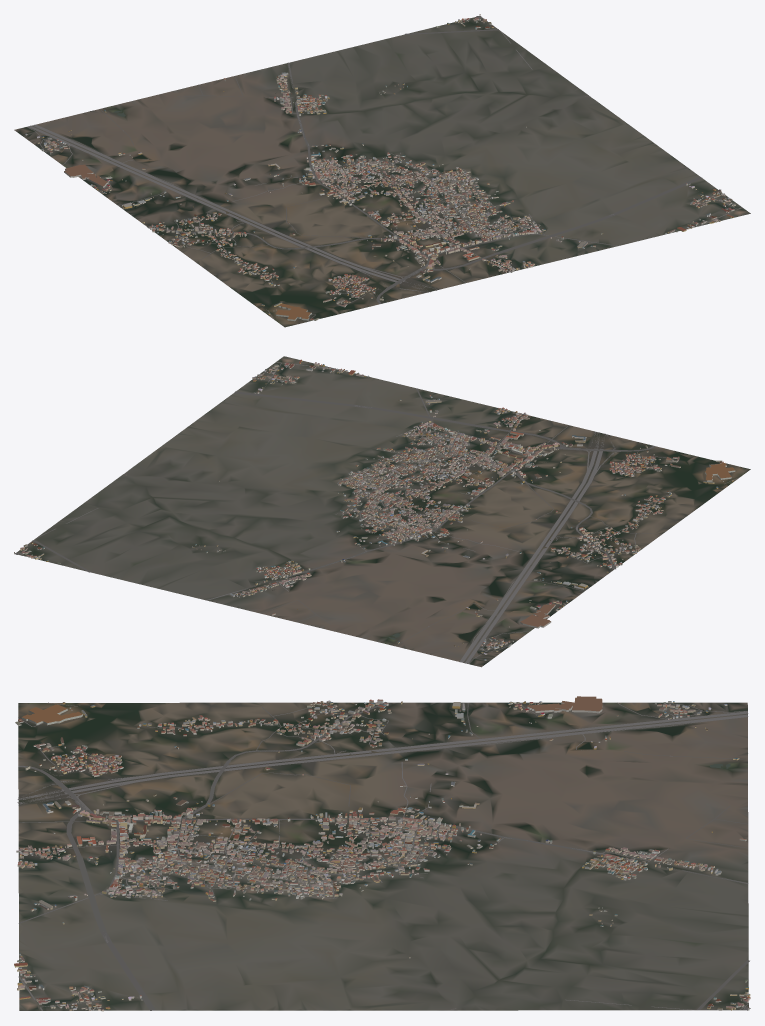
3 views of the same model, one above another, from view 1: azimuth 30°, elevation 25°; view 2: azimuth 150°, elevation 25°; view 3: azimuth 270°, elevation 25° (orthographic). The views are drawn at different scales.
Parts seen in each view (by area): view 1: ground, buildings, roads; view 2: ground, buildings, roads; view 3: ground, buildings, roads.
Boxes of the visible parts, x1,y1,x2,y2 form: ground: [14, 17, 750, 327]; buildings: [25, 14, 735, 321]; roads: [27, 16, 742, 321]; ground: [16, 356, 750, 667]; buildings: [14, 359, 735, 660]; roads: [15, 362, 739, 663]; ground: [18, 702, 748, 1010]; buildings: [14, 696, 750, 1011]; roads: [17, 702, 750, 1010].
Bounding box in the file's own units: 2843 × 32.11 × 2832.
